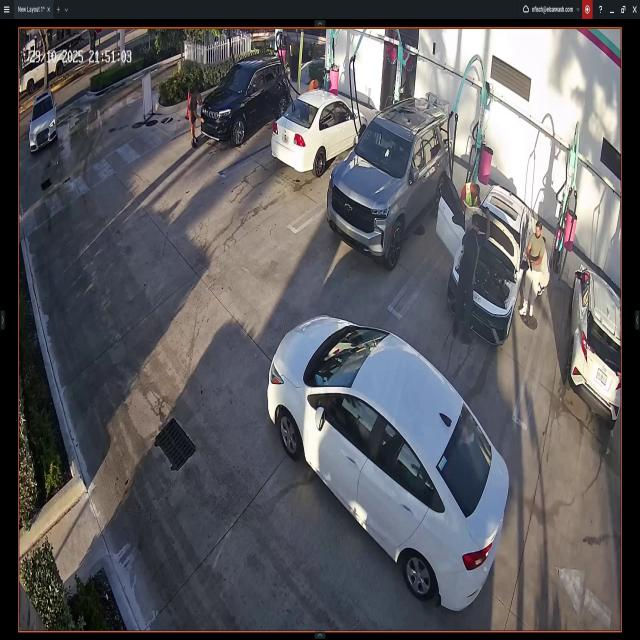Car: (266, 316, 508, 610), (327, 100, 451, 266), (444, 175, 536, 346), (569, 265, 620, 426), (200, 61, 291, 146), (272, 90, 368, 170), (29, 98, 58, 151)
